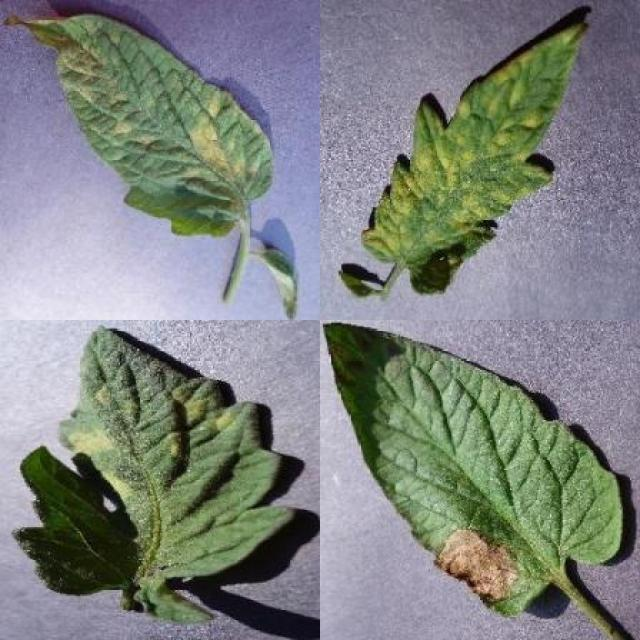Late Blight: (322, 319, 624, 616)
Leaf Mold: (11, 324, 296, 626), (362, 20, 588, 294), (7, 14, 276, 239)
